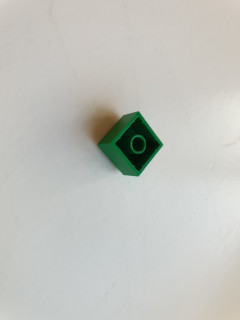2x2 green: (94, 109, 166, 181)
